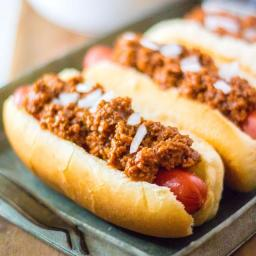hotdog: (3, 9, 256, 242)
